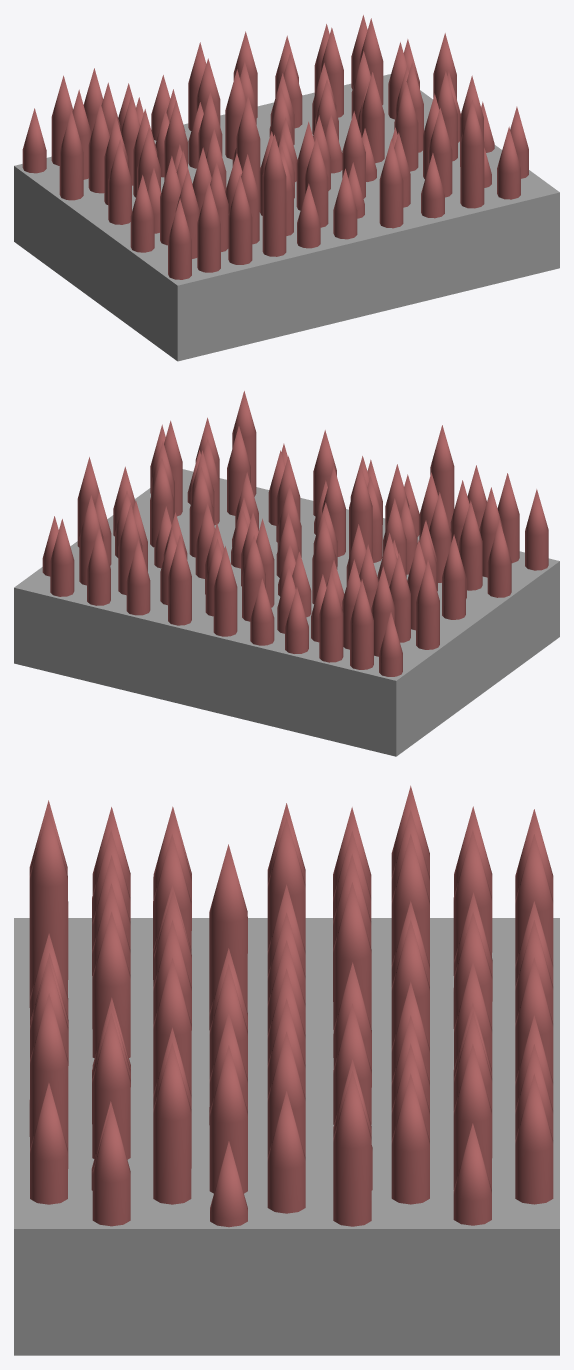
Rendered from Trampa_1_LP.fbx.
The picture shows the model from 3 angles, top to bottom: view 1: azimuth 30°, elevation 25°; view 2: azimuth 150°, elevation 25°; view 3: azimuth 270°, elevation 25°; orthographic projection. The views are drawn at different scales.
Parts seen in each view (by area): view 1: PINCHOS, pCube2; view 2: PINCHOS, pCube2; view 3: pCube2, PINCHOS.
Boxes of the visible parts, x1,y1,x2,y2 form: PINCHOS: (22,15,528,279); pCube2: (14,74,559,361); PINCHOS: (42,391,548,676); pCube2: (14,469,559,756); pCube2: (14,918,559,1355); PINCHOS: (29,785,553,1227).
Size of the model in its own units: 3.39 by 1.64 by 2.51.
